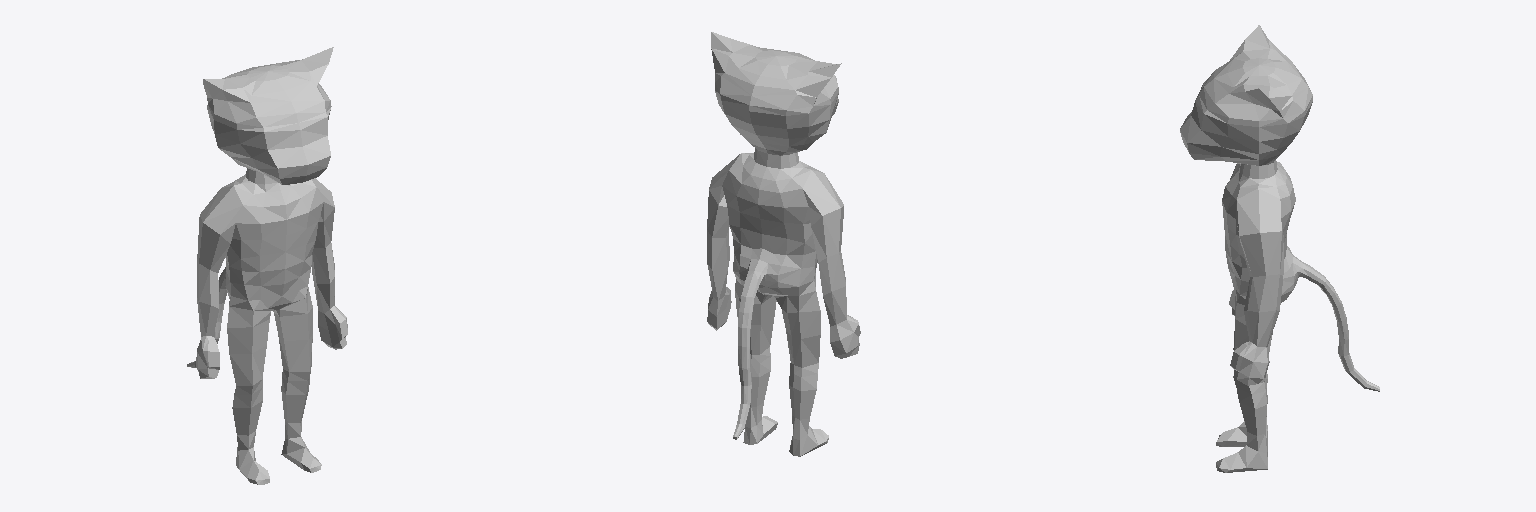
The model's file is catDude.obj.
3 renders of one model, left to right at view 1: azimuth 30°, elevation 25°; view 2: azimuth 150°, elevation 25°; view 3: azimuth 270°, elevation 25°, orthographic.
Parts seen in each view (by area): view 1: obj.catDude.000_Cat; view 2: obj.catDude.000_Cat; view 3: obj.catDude.000_Cat.
Part boxes in pixels (bbox=[...]): obj.catDude.000_Cat: bbox=[187, 47, 347, 484]; obj.catDude.000_Cat: bbox=[707, 32, 860, 456]; obj.catDude.000_Cat: bbox=[1180, 25, 1379, 472].
Bounding box in the file's own units: 0.2346 × 0.6075 × 0.2757.